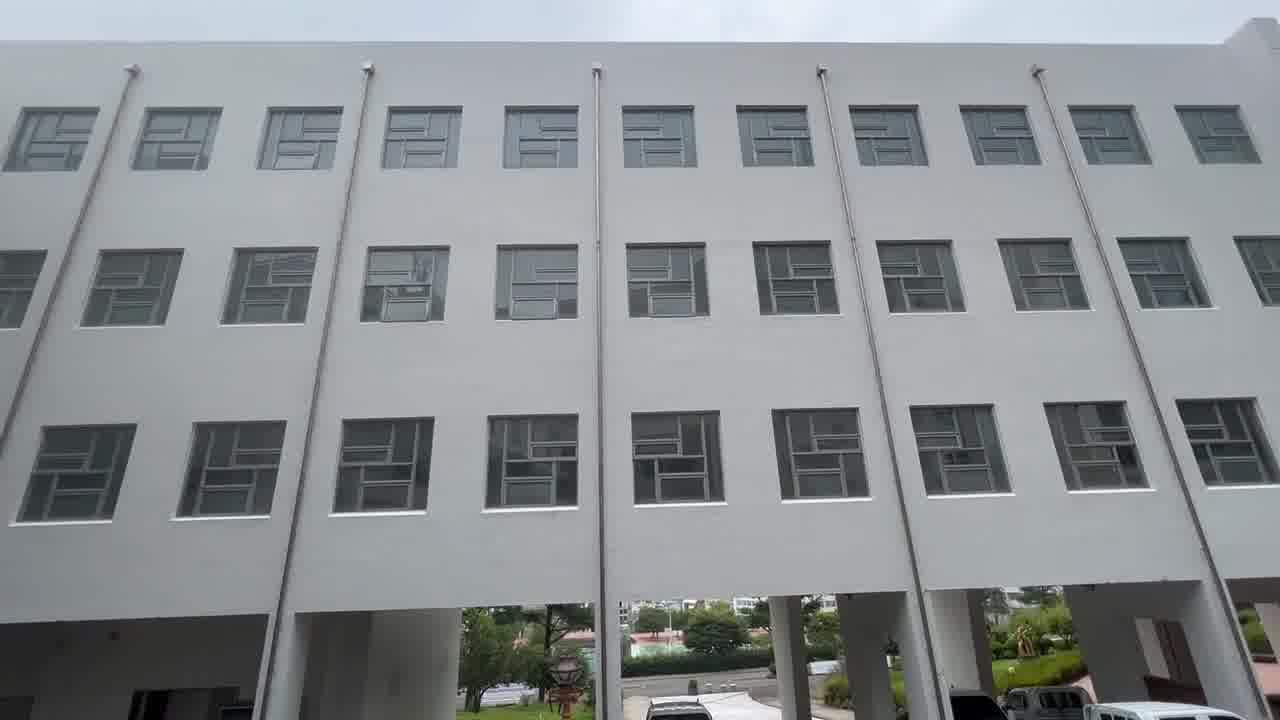high: (3, 21, 1254, 571)
